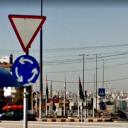preferencia: (6, 12, 46, 56)
